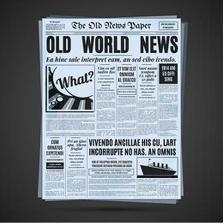news_paper: (36, 12, 186, 204)
